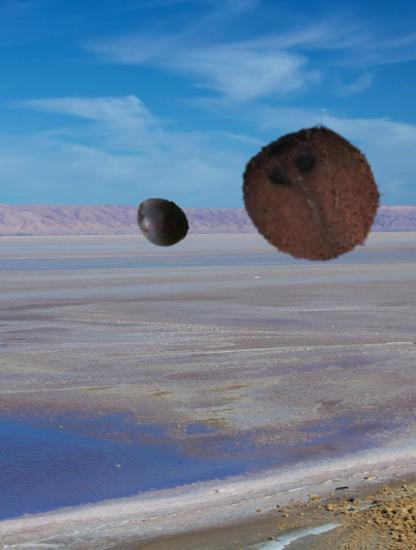Cocos: (238, 120, 387, 269)
Plum: (134, 194, 190, 250)
